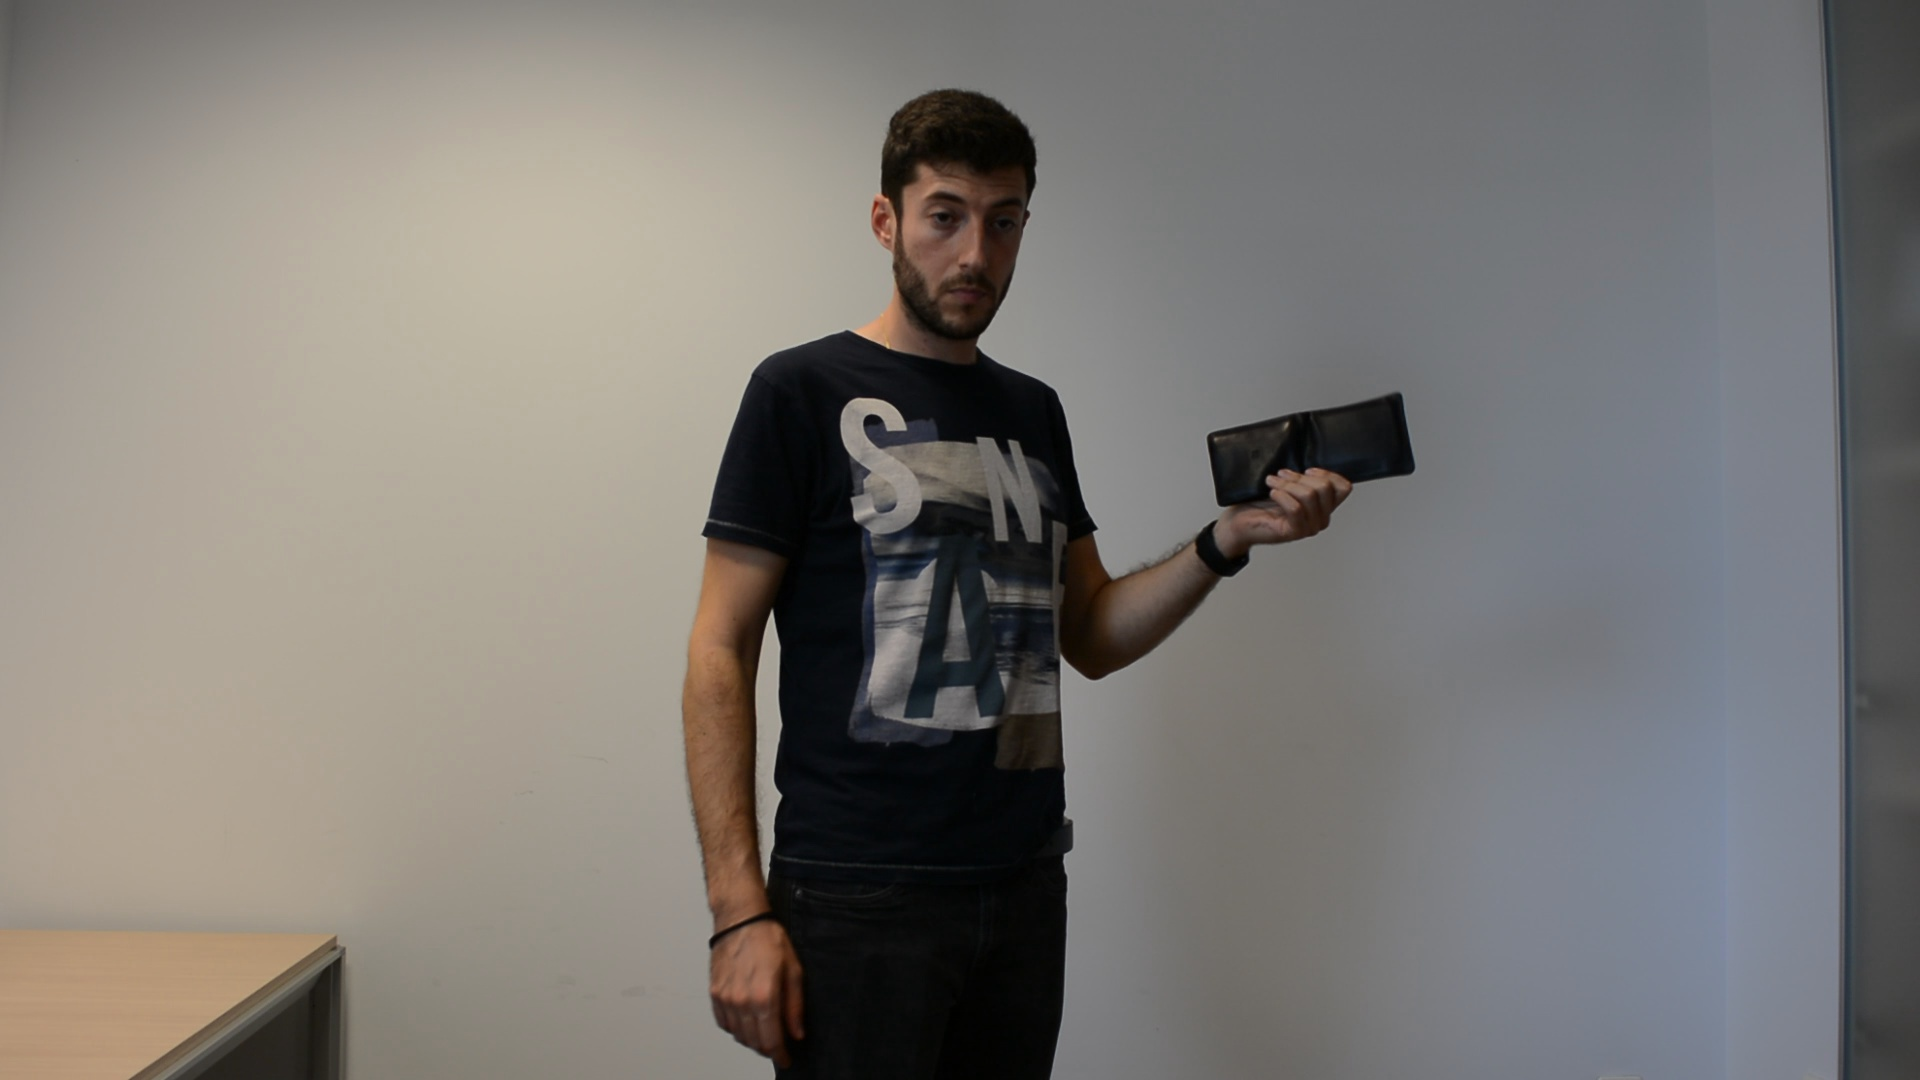monedero: (1204, 389, 1420, 512)
